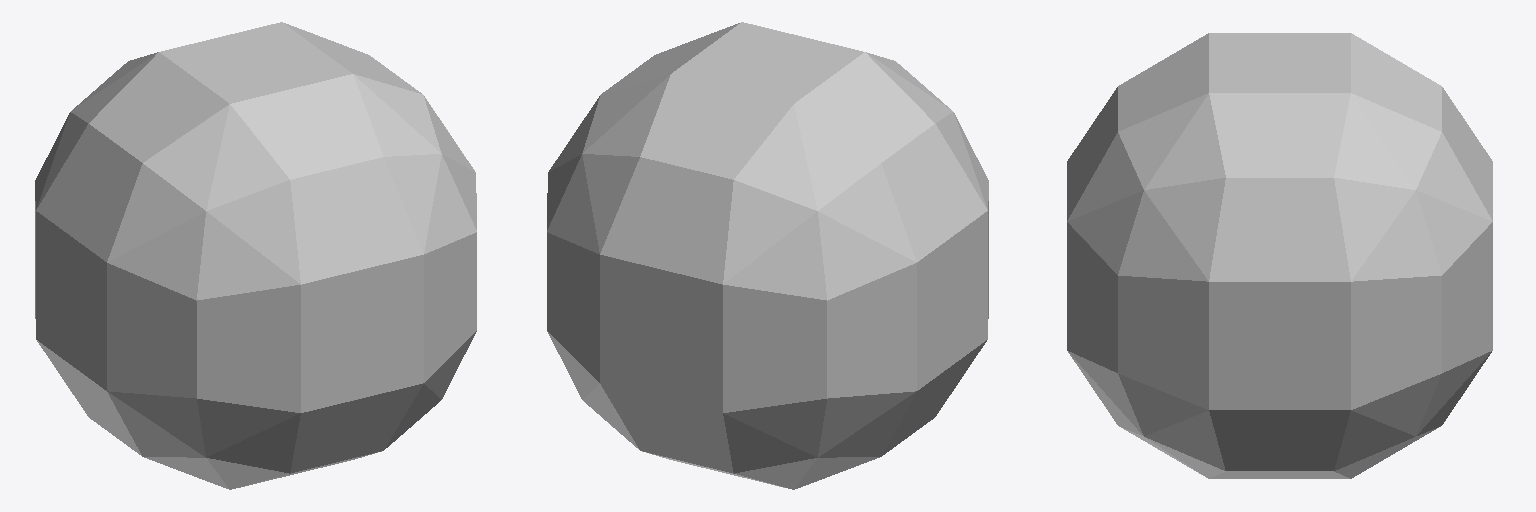
File: smallsphere.obj
3 views of the same model, side by side, from view 1: azimuth 30°, elevation 25°; view 2: azimuth 150°, elevation 25°; view 3: azimuth 270°, elevation 25° (orthographic).
Bounding box in the file's own units: 0.0541 × 0.0541 × 0.0541.